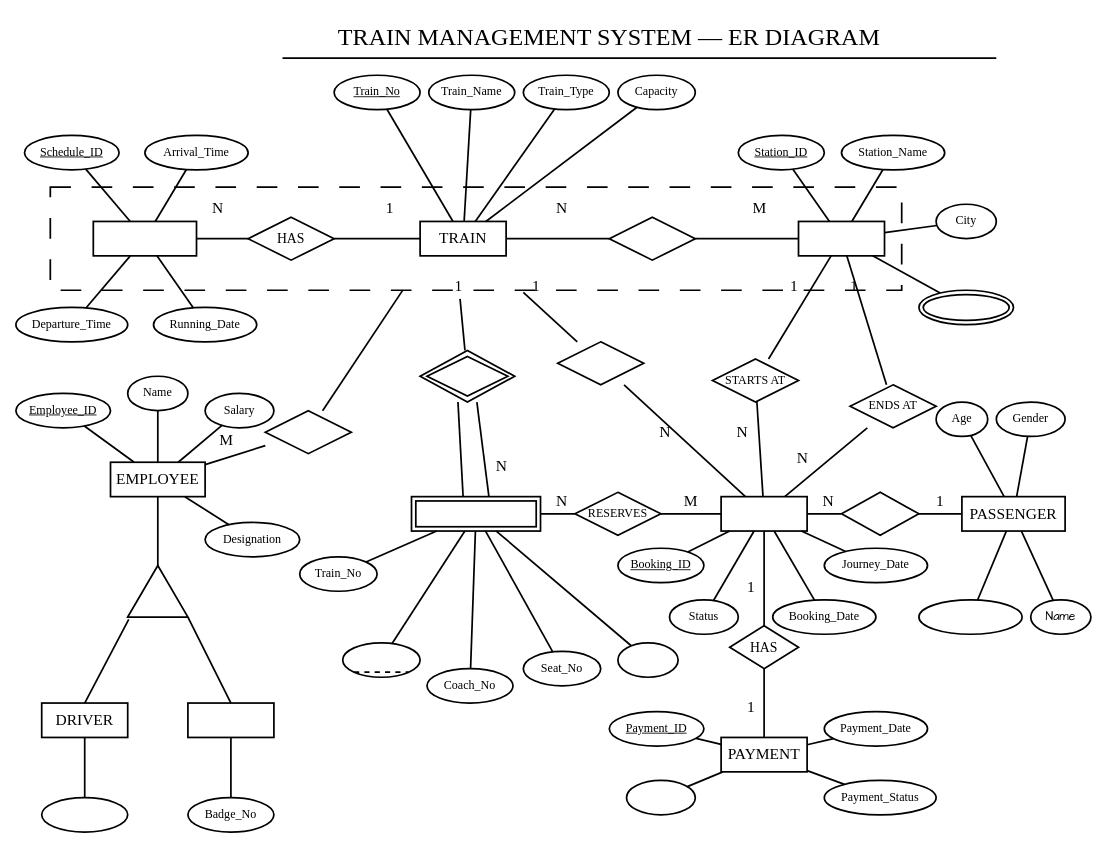
Some shapes in this 1106 by 847 pixel diagram are drawn without their labels. The centre of each missing label's shape, as x and y in pixels:
"Amount" goes at (660,797).
"BOOKED ON" goes at (600,363).
"BOOKING" goes at (764,513).
"Class" goes at (648,660).
"COACH_SEAT" goes at (476,513).
"CONTAINS" goes at (467,375).
"ISA" goes at (157,590).
"License_No" goes at (84,814).
"MAKES" goes at (879,513).
"MANAGES" goes at (308,431).
"Passenger_ID" goes at (970,617).
"Platform_No" goes at (966,307).
"SCHEDULE" goes at (144,238).
"Seat_ID" goes at (381,660).
"STATION" goes at (841,238).
"STOPS AT" goes at (652,238).
"TC" goes at (230,720).
